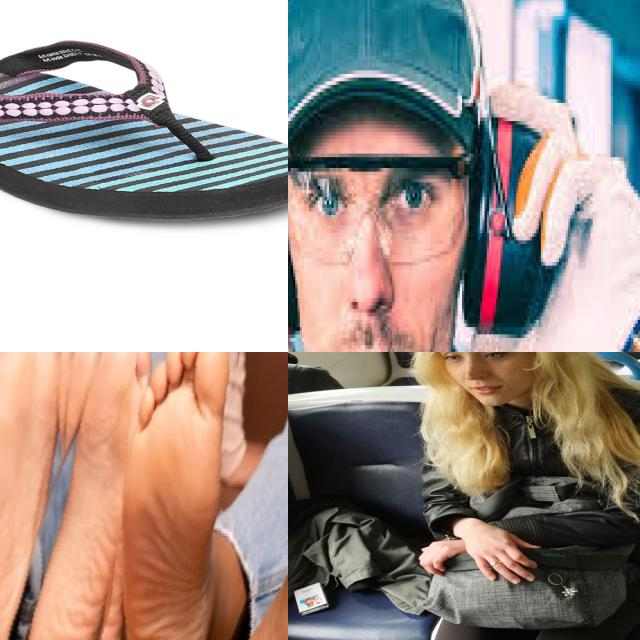Barefoots: (0, 352, 199, 640), (80, 352, 255, 640), (0, 352, 107, 640), (193, 352, 288, 640)
Ear-protection: (288, 0, 556, 346)
Sandals: (0, 29, 288, 224)
